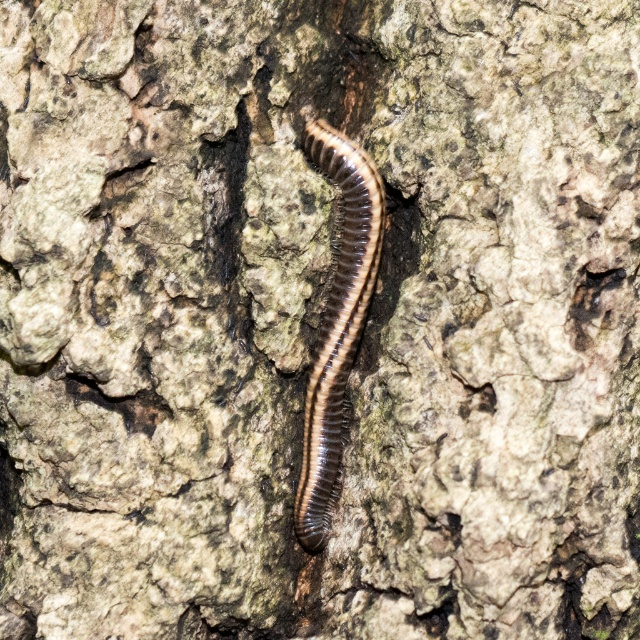Caterpillar: (292, 116, 393, 556)
